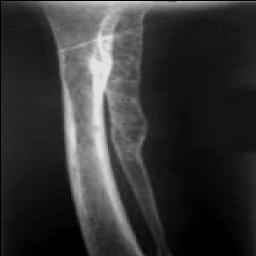cancer: (90, 5, 160, 181)
